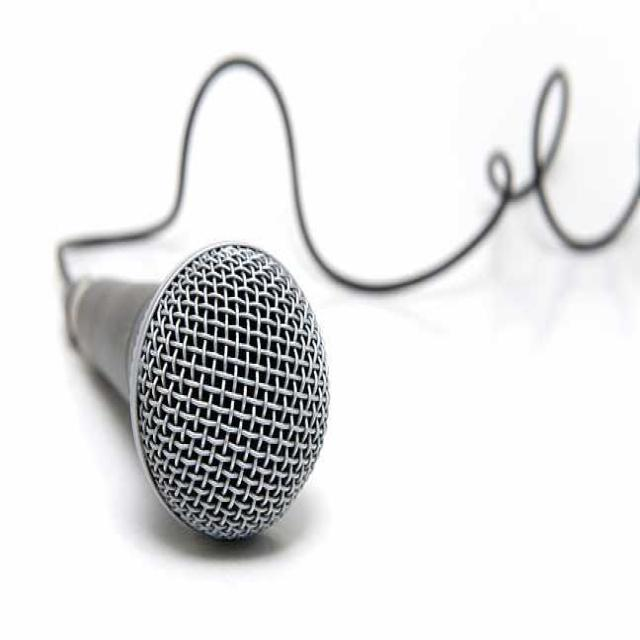microphone: (63, 236, 331, 540)
